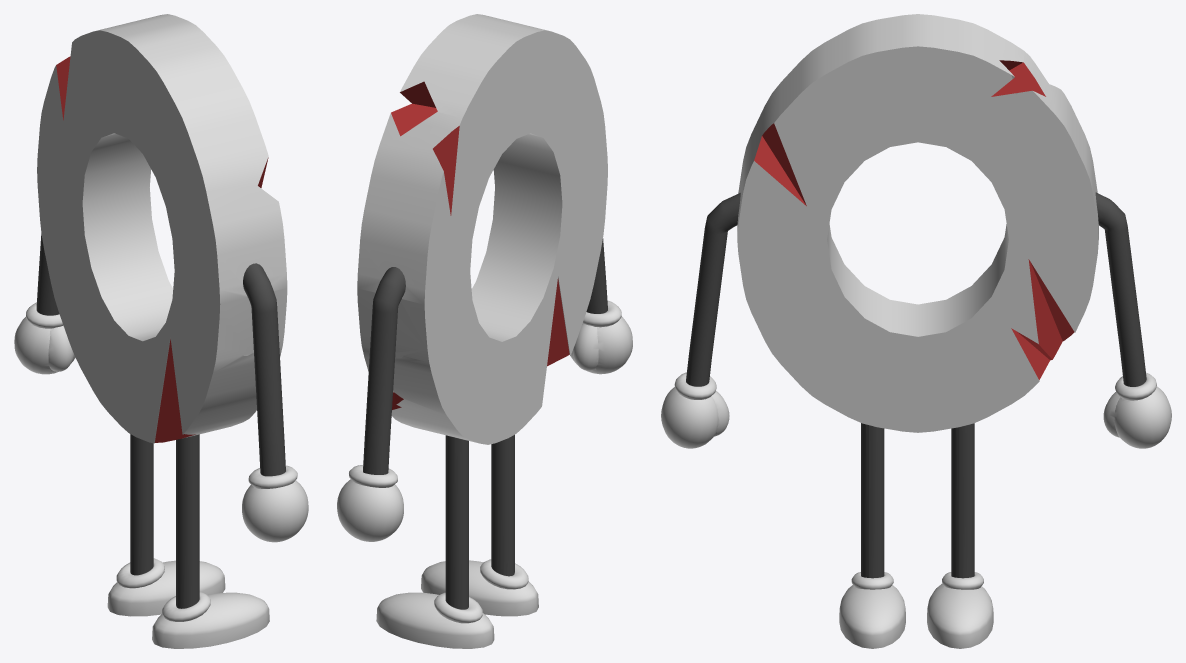
Rendered from ZeroDigit_Corrupt_Animated.fbx.
3 renders of one model, left to right at view 1: azimuth 30°, elevation 25°; view 2: azimuth 150°, elevation 25°; view 3: azimuth 270°, elevation 25°, orthographic.
Visible parts, largest first — view 1: CharacterObject; view 2: CharacterObject; view 3: CharacterObject.
Boxes of the visible parts, x1=… form: CharacterObject: x1=14, y1=14, x2=308, y2=648; CharacterObject: x1=337, y1=14, x2=632, y2=648; CharacterObject: x1=661, y1=14, x2=1171, y2=648.
Size of the model in its own units: 2.44 by 11.83 by 9.43.
